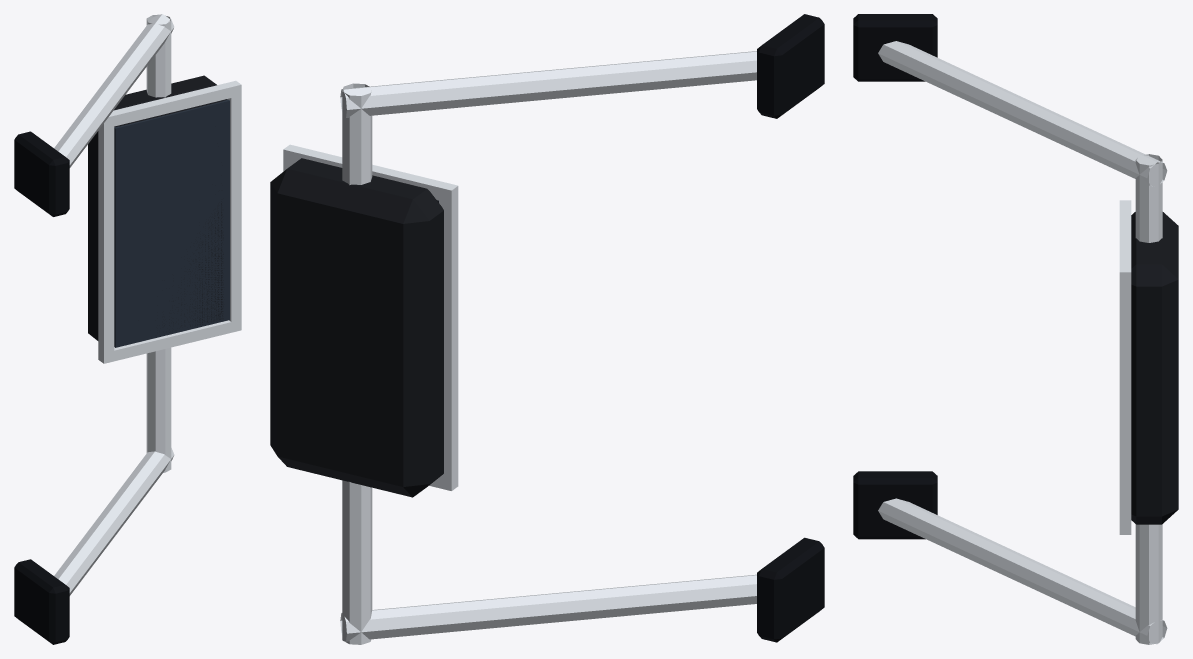
Rendered from mirror_stay_l.glb.
3 views of the same model, side by side, from view 1: azimuth 30°, elevation 25°; view 2: azimuth 150°, elevation 25°; view 3: azimuth 270°, elevation 25° (orthographic). The views are drawn at different scales.
Visible parts, largest first — view 1: mirror_stay_l_deco_mirror, mirror_stay_l_chrome, mirror_stay_l_deco_trim, mirror_stay_l_deco_body; view 2: mirror_stay_l_deco_body, mirror_stay_l_chrome, mirror_stay_l_deco_trim; view 3: mirror_stay_l_chrome, mirror_stay_l_deco_body, mirror_stay_l_deco_trim.
Part boxes in pixels (x1,y1,x2,y2): mirror_stay_l_deco_mirror: (114, 99, 229, 347); mirror_stay_l_chrome: (54, 14, 241, 595); mirror_stay_l_deco_trim: (14, 131, 69, 644); mirror_stay_l_deco_body: (88, 75, 227, 340); mirror_stay_l_deco_body: (270, 158, 443, 497); mirror_stay_l_chrome: (283, 51, 756, 644); mirror_stay_l_deco_trim: (757, 14, 824, 642); mirror_stay_l_chrome: (878, 41, 1167, 644); mirror_stay_l_deco_body: (1131, 212, 1178, 524); mirror_stay_l_deco_trim: (853, 14, 937, 539).
Size of the model in its own units: 0.4595 by 0.677 by 0.385.
